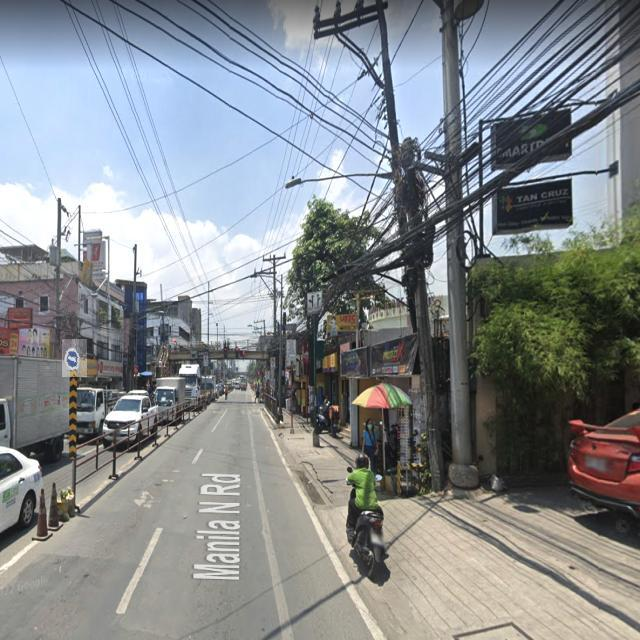keep right: (62, 339, 87, 377)
